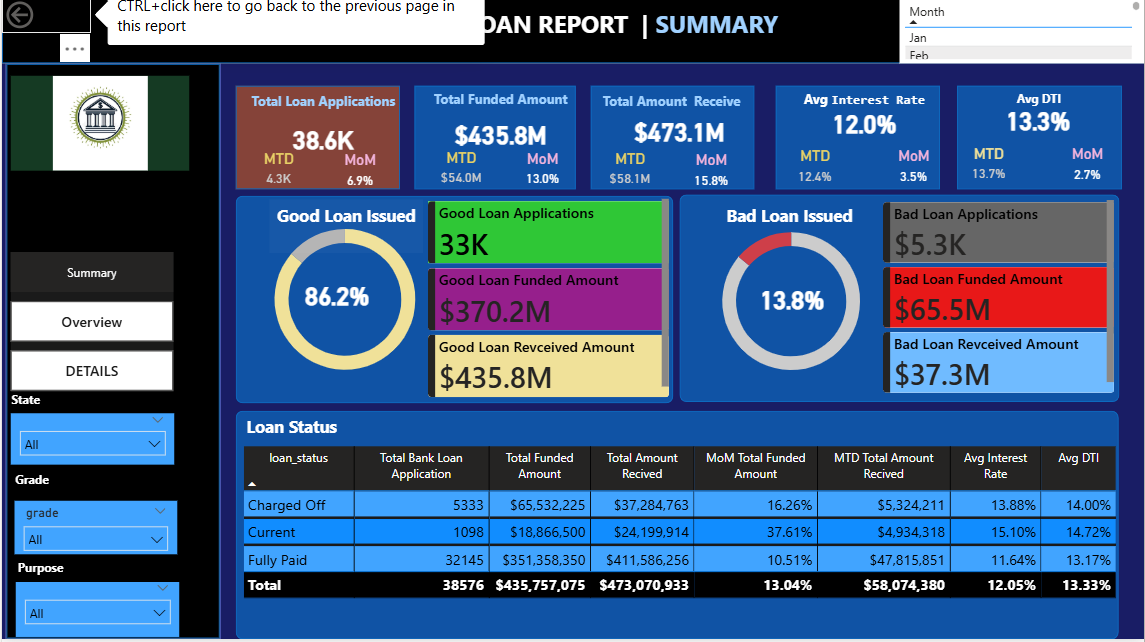

The dashboard page shown, as its layout file describes it:
{"tool":"powerbi","page":{"name":"Summary","canvas":[1280,720],"ordinal":0},"visuals":[{"type":"shape","box":[4.2,74.2,240.9,645.7],"z":0},{"type":"card","fields":{"Values":["financial_loan.Total Amount Recived"]},"box":[692.9,105.9,131.7,88.2],"z":0,"group":"g5"},{"type":"card","fields":{"Values":["financial_loan.Total Funded Amount"]},"box":[492.4,108.7,131.7,88.2],"z":0,"group":"g4"},{"type":"card","fields":{"Values":["financial_loan.Total Bank Loan Application"]},"box":[293.7,114.9,131.7,88.2],"z":0,"group":"g2"},{"type":"textbox","box":[479.1,99.5,217.1,40.6],"z":1000,"group":"g4"},{"type":"shape","box":[867.1,99.7,184,116.3],"z":1000},{"type":"textbox","box":[274.1,100.9,217.1,40.6],"z":1000,"group":"g2"},{"type":"textbox","box":[668.2,100.9,217.1,40.6],"z":1000,"group":"g5"},{"type":"shape","box":[261.9,99.8,184,116],"z":1500},{"type":"card","fields":{"Values":["financial_loan.Avg DTI"]},"box":[1095.2,93.9,131.2,88.8],"z":2000,"group":"g3"},{"type":"group","id":"g1","title":"Group 3","box":[875.5,96.7,180.7,121.9],"z":2000},{"type":"card","fields":{"Values":["financial_loan.Avg Interest Rate"]},"box":[900.5,96.7,131.2,88.8],"z":2000,"group":"g7"},{"type":"card","title":"MTD ","fields":{"Values":["financial_loan.MTD Total Funded Amount"]},"box":[479.1,169.5,71.4,49],"z":2000,"group":"g4"},{"type":"card","title":"MTD ","fields":{"Values":["financial_loan.MTD Loan Application"]},"box":[274.1,170.9,71.4,49],"z":2000,"group":"g2"},{"type":"card","title":"MTD ","fields":{"Values":["financial_loan.MTD Total Amount Recived"]},"box":[668.2,170.9,71.4,49],"z":2000,"group":"g5"},{"type":"card","title":"MoM","fields":{"Values":["financial_loan.MoM Total Funded Amount"]},"box":[570.1,170.9,71.4,49],"z":3000,"group":"g4"},{"type":"card","title":"MoM","fields":{"Values":["financial_loan.MoM Loan Application"]},"box":[365.1,172.3,71.4,49],"z":3000,"group":"g2"},{"type":"card","title":"MoM","fields":{"Values":["financial_loan.MoM Total Amount Recived"]},"box":[759.2,172.3,71.4,49],"z":3000,"group":"g5"},{"type":"shape","box":[261.9,222.7,490.3,232.5],"z":3000},{"type":"shape","box":[1070.2,99.7,184.9,116.3],"z":4000},{"type":"card","title":"MTD ","fields":{"Values":["financial_loan.MTD Avg DTI"]},"box":[1070.2,165.1,71.2,48.8],"z":5000,"group":"g3"},{"type":"card","title":"MTD ","fields":{"Values":["financial_loan.MTD Avg Int Rate"]},"box":[875.5,167.9,71.2,48.8],"z":5000,"group":"g7"},{"type":"shape","box":[759.2,221.3,493.1,232.5],"z":5000},{"type":"card","fields":{"Values":["financial_loan.Bad Loan Percentage"]},"box":[819.4,294.2,131.7,88.2],"z":6000},{"type":"card","title":"MoM","fields":{"Values":["financial_loan.MoM Avg DTI"]},"box":[1180.2,165.1,71.2,50],"z":7000,"group":"g3"},{"type":"card","title":"MoM","fields":{"Values":["financial_loan.MoM Avg Int Rate"]},"box":[985.5,167.9,71.2,50],"z":7000,"group":"g7"},{"type":"group","id":"g2","title":"Group 2","box":[274.1,100.9,217.1,120.5],"z":8000},{"type":"card","fields":{"Values":["financial_loan.Good Loan Percentage"]},"box":[309.6,290,131.7,88.2],"z":9000},{"type":"shape","box":[0,0,1280.3,74.2],"z":10000},{"type":"textbox","box":[433.6,6.9,746.5,61.7],"z":11000},{"type":"shape","box":[659.8,99.7,183.5,116.3],"z":12000},{"type":"shape","box":[462.2,99.7,180.7,116.3],"z":13000},{"type":"actionButton","box":[0,0,100,40],"z":14000},{"type":"textbox","box":[885.5,99.2,162.5,38.8],"z":14000,"group":"g7"},{"type":"group","id":"g3","title":"Group 4","box":[1070.2,93.9,182.1,121.9],"z":15000},{"type":"group","id":"g4","title":"Group 5","box":[479.1,99.5,217.1,120.5],"z":16000},{"type":"group","id":"g5","title":"Group 6","box":[668.2,100.9,217.1,120.5],"z":17000},{"type":"textbox","box":[1071.6,99.5,180.7,33.6],"z":18000},{"type":"donutChart","fields":{"Category":["financial_loan.loan_status (groups)"],"Y":["financial_loan.Total Bank Loan Application"]},"box":[253.5,235.3,261.9,207.3],"z":19000},{"type":"textbox","box":[299.8,226.9,172.3,60.2],"z":20000},{"type":"cardVisual","fields":{"Data":["financial_loan.Good Loan Applications","financial_loan.Good Loan Funded Amount","financial_loan.Good Loan Revceived Amount"]},"box":[472.1,221.3,280.1,233.9],"z":21000},{"type":"donutChart","fields":{"Category":["financial_loan.loan_status (groups)"],"Y":["financial_loan.Total Bank Loan Application"]},"box":[783,238.1,203.1,205.9],"z":22000},{"type":"shape","box":[262.1,463.6,989.4,256.1],"z":23000},{"type":"textbox","box":[806.8,226.9,173.7,37.8],"z":24000},{"type":"cardVisual","fields":{"Data":["financial_loan.Bad Loan Applications","financial_loan.Bad Loan Funded Amount","financial_loan.Bad Loan Revceived Amount"]},"box":[981.8,222.7,269.7,228.8],"z":25000},{"type":"tableEx","fields":{"Values":["financial_loan.loan_status","financial_loan.Total Bank Loan Application","financial_loan.Total Funded Amount","financial_loan.Total Amount Recived","financial_loan.MoM Total Funded Amount","financial_loan.MTD Total Amount Recived","financial_loan.Avg Interest Rate","financial_loan.Avg DTI"]},"box":[264.7,498.7,988.9,191.9],"z":26000},{"type":"textbox","box":[268.9,463.6,135.9,35],"z":27000},{"type":"group","id":"g6","title":"Group 8","box":[6,437.7,193.8,280.6],"z":28000},{"type":"slicer","fields":{"Values":["financial_loan.address_state"]},"box":[10.2,467.1,183.5,57.4],"z":28000,"group":"g6"},{"type":"pageNavigator","box":[9.8,285.8,182.1,156.9],"z":29000},{"type":"textbox","box":[6,437.7,63,40.6],"z":29000,"group":"g6"},{"type":"image","box":[9.8,88.2,200.3,106.5],"z":30000},{"type":"slicer","fields":{"Values":["financial_loan.grade"]},"box":[13.7,565.2,182.1,60.2],"z":30000,"group":"g6"},{"type":"tableEx","fields":{"Values":["Date Table.Month"]},"box":[1005.7,0,274.5,74.2],"z":31000},{"type":"slicer","fields":{"Values":["financial_loan.purpose"]},"box":[16.3,656.7,183.5,61.6],"z":31000,"group":"g6"},{"type":"textbox","box":[12.7,625.5,114.9,40.6],"z":32000,"group":"g6"},{"type":"textbox","box":[9.5,527.3,92.4,50.4],"z":33000,"group":"g6"},{"type":"group","id":"g7","title":"Group 7","box":[875.5,96.7,181.2,121.2],"z":33001,"group":"g1"}]}

Visuals, with their boxes on the page's 1280x720 design canvas (x1, y1, x2, y2). These are canvas units, not pixel positions in the 1145x642 screenshot, which may show the page scaled, cropped or inside an application window:
shape: bbox=(4, 74, 245, 720)
card - financial_loan.Total Amount Recived: bbox=(693, 106, 825, 194)
card - financial_loan.Total Funded Amount: bbox=(492, 109, 624, 197)
card - financial_loan.Total Bank Loan Application: bbox=(294, 115, 425, 203)
textbox: bbox=(479, 100, 696, 140)
shape: bbox=(867, 100, 1051, 216)
textbox: bbox=(274, 101, 491, 142)
textbox: bbox=(668, 101, 885, 142)
shape: bbox=(262, 100, 446, 216)
card - financial_loan.Avg DTI: bbox=(1095, 94, 1226, 183)
"Group 3" group: bbox=(876, 97, 1056, 219)
card - financial_loan.Avg Interest Rate: bbox=(900, 97, 1032, 186)
"MTD " card: bbox=(479, 170, 550, 218)
"MTD " card: bbox=(274, 171, 346, 220)
"MTD " card: bbox=(668, 171, 740, 220)
"MoM" card: bbox=(570, 171, 642, 220)
"MoM" card: bbox=(365, 172, 436, 221)
"MoM" card: bbox=(759, 172, 831, 221)
shape: bbox=(262, 223, 752, 455)
shape: bbox=(1070, 100, 1255, 216)
"MTD " card: bbox=(1070, 165, 1141, 214)
"MTD " card: bbox=(876, 168, 947, 217)
shape: bbox=(759, 221, 1252, 454)
card - financial_loan.Bad Loan Percentage: bbox=(819, 294, 951, 382)
"MoM" card: bbox=(1180, 165, 1251, 215)
"MoM" card: bbox=(986, 168, 1057, 218)
"Group 2" group: bbox=(274, 101, 491, 221)
card - financial_loan.Good Loan Percentage: bbox=(310, 290, 441, 378)
shape: bbox=(0, 0, 1280, 74)
textbox: bbox=(434, 7, 1180, 69)
shape: bbox=(660, 100, 843, 216)
shape: bbox=(462, 100, 643, 216)
actionButton: bbox=(0, 0, 100, 40)
textbox: bbox=(886, 99, 1048, 138)
"Group 4" group: bbox=(1070, 94, 1252, 216)
"Group 5" group: bbox=(479, 100, 696, 220)
"Group 6" group: bbox=(668, 101, 885, 221)
textbox: bbox=(1072, 100, 1252, 133)
donutChart - financial_loan.loan_status (groups) x financial_loan.Total Bank Loan Application: bbox=(254, 235, 515, 443)
textbox: bbox=(300, 227, 472, 287)
cardVisual - financial_loan.Good Loan Applications x financial_loan.Good Loan Funded Amount: bbox=(472, 221, 752, 455)
donutChart - financial_loan.loan_status (groups) x financial_loan.Total Bank Loan Application: bbox=(783, 238, 986, 444)
shape: bbox=(262, 464, 1252, 720)
textbox: bbox=(807, 227, 980, 265)
cardVisual - financial_loan.Bad Loan Applications x financial_loan.Bad Loan Funded Amount: bbox=(982, 223, 1252, 452)
tableEx - financial_loan.loan_status x financial_loan.Total Bank Loan Application: bbox=(265, 499, 1254, 691)
textbox: bbox=(269, 464, 405, 499)
"Group 8" group: bbox=(6, 438, 200, 718)
slicer - financial_loan.address_state: bbox=(10, 467, 194, 524)
pageNavigator: bbox=(10, 286, 192, 443)
textbox: bbox=(6, 438, 69, 478)
image: bbox=(10, 88, 210, 195)
slicer - financial_loan.grade: bbox=(14, 565, 196, 625)
tableEx - Date Table.Month: bbox=(1006, 0, 1280, 74)
slicer - financial_loan.purpose: bbox=(16, 657, 200, 718)
textbox: bbox=(13, 626, 128, 666)
textbox: bbox=(10, 527, 102, 578)
"Group 7" group: bbox=(876, 97, 1057, 218)
